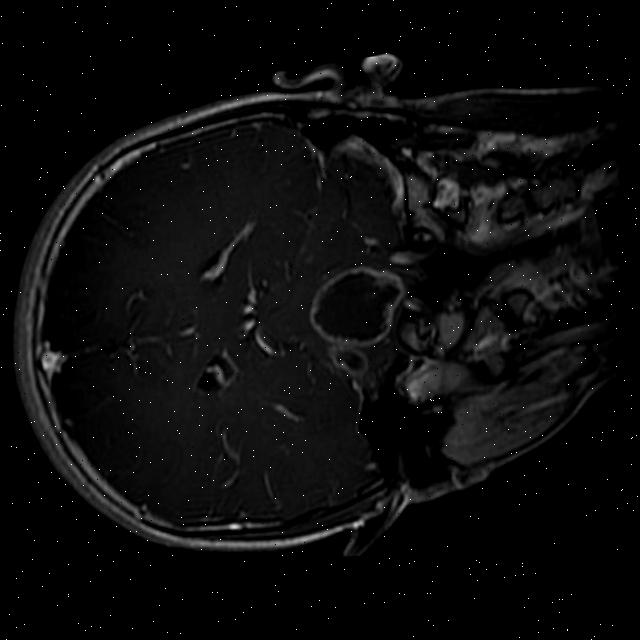Glioma: (301, 258, 412, 351), (323, 340, 373, 380)
